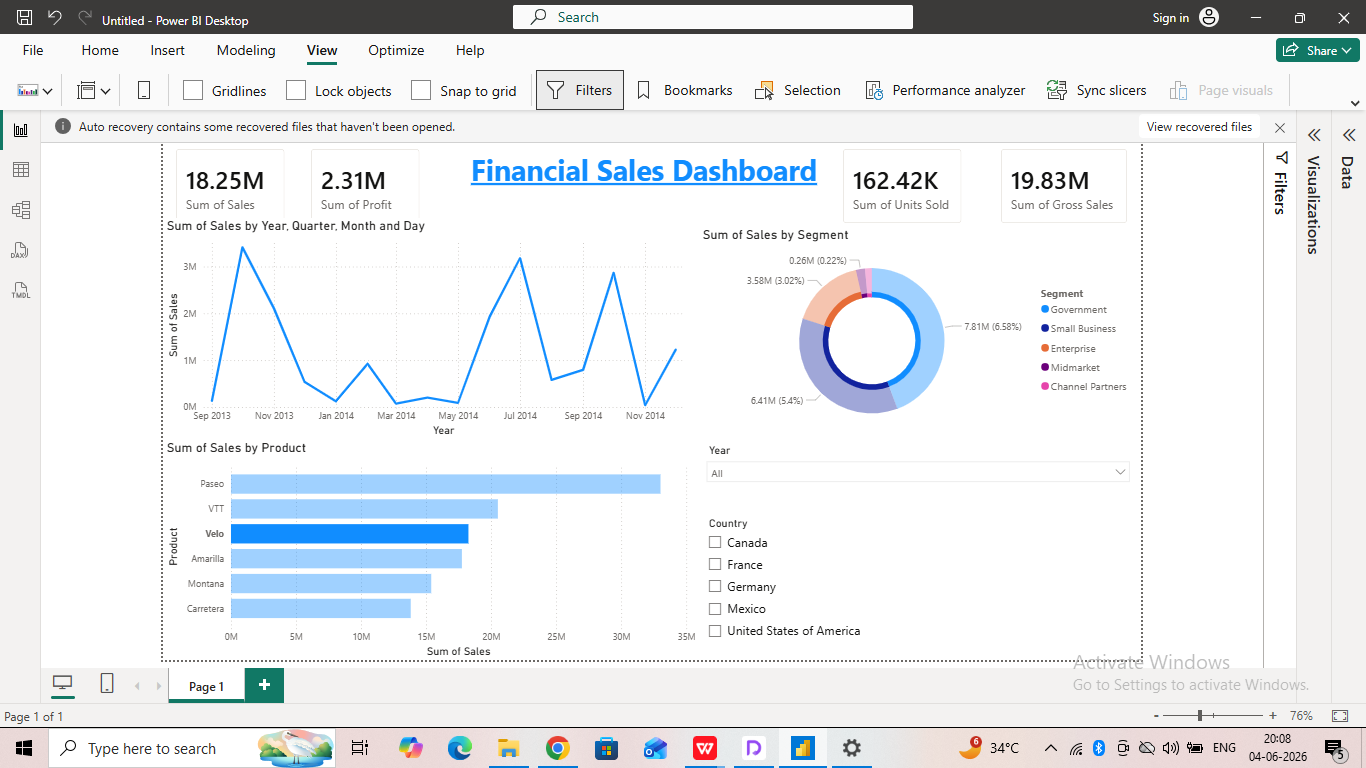

Layout of this report page (visuals, bound fields, positions):
{"tool":"powerbi","page":{"name":"Page 1","canvas":[1280,720],"ordinal":0},"visuals":[{"type":"cardVisual","fields":{"Data":["Sum(Sheet1. Sales)"]},"box":[0,33.6,176.4,131],"z":0},{"type":"cardVisual","fields":{"Data":["Sum(Sheet1.Profit)"]},"box":[176.4,33.6,176.4,131],"z":1},{"type":"cardVisual","fields":{"Data":["Sum(Sheet1.Units Sold)"]},"box":[873.5,33.6,189.8,131],"z":2},{"type":"cardVisual","fields":{"Data":["Sum(Sheet1.Gross Sales)"]},"box":[1080.1,33.6,199.9,131],"z":3},{"type":"textbox","box":[398.1,48.7,488.8,65.5],"z":4},{"type":"textbox","box":[0,239.5,176,150],"z":5},{"type":"lineChart","fields":{"Y":["Sum(Sheet1. Sales)"],"Category":["Sheet1.Date.Variation.Date Hierarchy.Year","Sheet1.Date.Variation.Date Hierarchy.Quarter","Sheet1.Date.Variation.Date Hierarchy.Month","Sheet1.Date.Variation.Date Hierarchy.Day"]},"box":[0,141.1,702.2,290.6],"z":6},{"type":"clusteredBarChart","fields":{"Category":["Sheet1.Product"],"Y":["Sum(Sheet1. Sales)"]},"box":[0,431.7,702.2,288.9],"z":7},{"type":"donutChart","fields":{"Category":["Sheet1.Segment"],"Y":["Sum(Sheet1. Sales)"]},"box":[702.2,152.9,574.5,278.8],"z":8},{"type":"slicer","fields":{"Values":["Sheet1.Year"]},"box":[702.2,431.7,574.5,112.5],"z":9},{"type":"slicer","fields":{"Values":["Sheet1.Country"]},"box":[702.2,527.5,574.5,193.2],"z":10}]}

Visuals, with their boxes on the page's 1280x720 design canvas (x1, y1, x2, y2). These are canvas units, not pixel positions in the 1366x768 screenshot, which may show the page scaled, cropped or inside an application window:
cardVisual - Sum(Sheet1. Sales): {"left": 0, "top": 34, "right": 176, "bottom": 165}
cardVisual - Sum(Sheet1.Profit): {"left": 176, "top": 34, "right": 353, "bottom": 165}
cardVisual - Sum(Sheet1.Units Sold): {"left": 874, "top": 34, "right": 1063, "bottom": 165}
cardVisual - Sum(Sheet1.Gross Sales): {"left": 1080, "top": 34, "right": 1280, "bottom": 165}
textbox: {"left": 398, "top": 49, "right": 887, "bottom": 114}
textbox: {"left": 0, "top": 240, "right": 176, "bottom": 390}
lineChart - Sum(Sheet1. Sales) x Sheet1.Date.Variation.Date Hierarchy.Year: {"left": 0, "top": 141, "right": 702, "bottom": 432}
clusteredBarChart - Sheet1.Product x Sum(Sheet1. Sales): {"left": 0, "top": 432, "right": 702, "bottom": 721}
donutChart - Sheet1.Segment x Sum(Sheet1. Sales): {"left": 702, "top": 153, "right": 1277, "bottom": 432}
slicer - Sheet1.Year: {"left": 702, "top": 432, "right": 1277, "bottom": 544}
slicer - Sheet1.Country: {"left": 702, "top": 528, "right": 1277, "bottom": 721}
